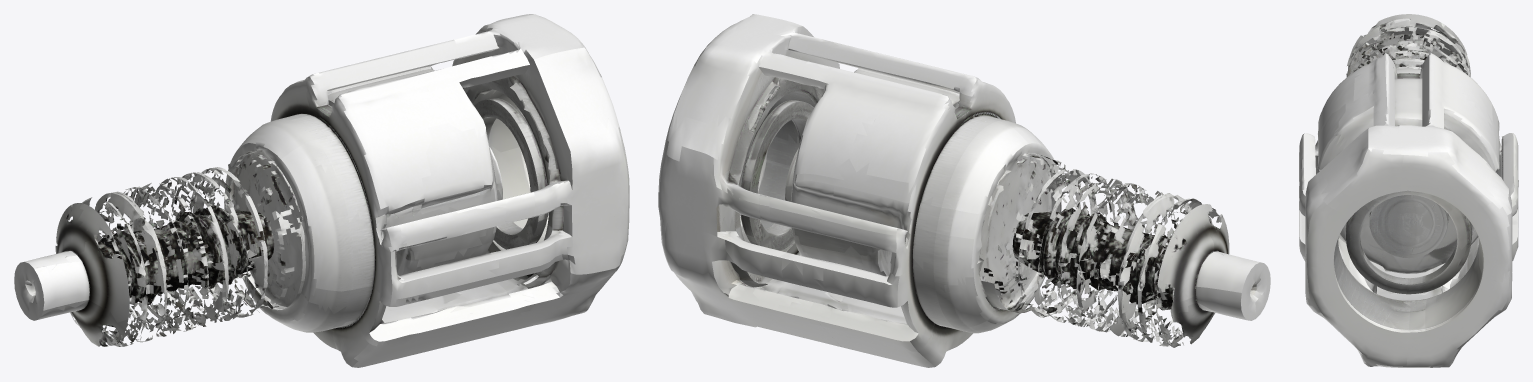
Rendered from lambda-planar.glb.
The picture shows the model from 3 angles, left to right: view 1: azimuth 30°, elevation 25°; view 2: azimuth 150°, elevation 25°; view 3: azimuth 270°, elevation 25°; orthographic projection. The views are drawn at different scales.
Size of the model in its own units: 1.9 by 0.9123 by 0.8099.
Materials: 1 (1 with a texture image).
